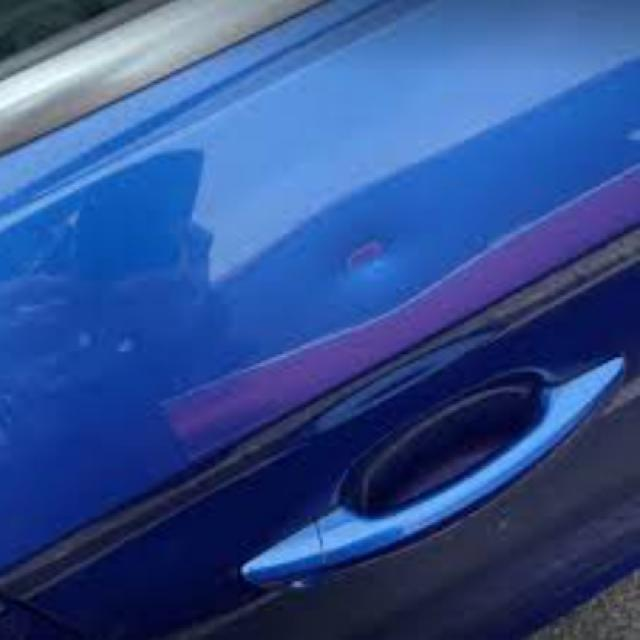dents: (319, 210, 429, 322)
